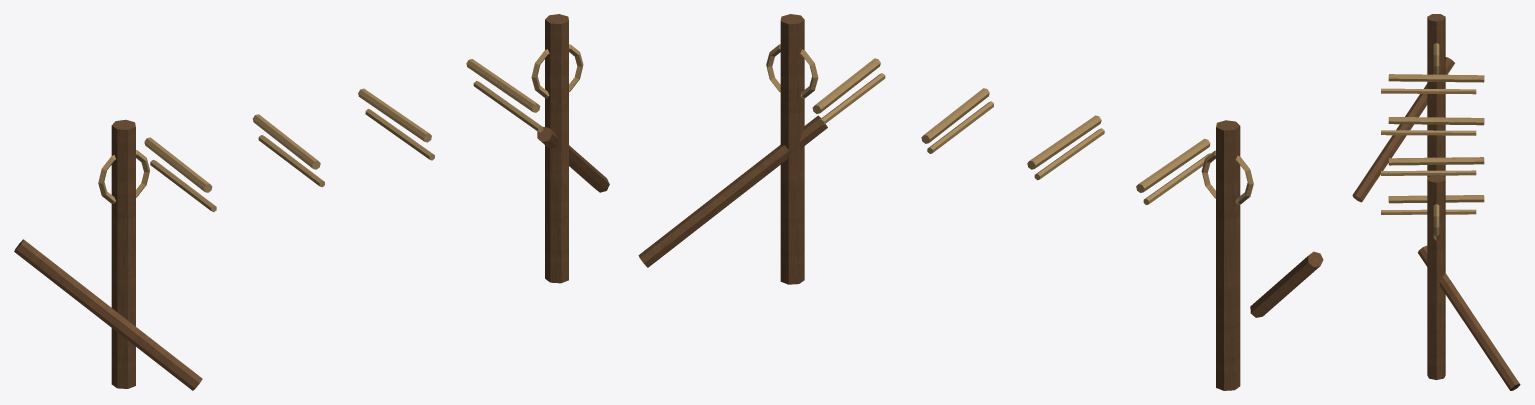
The model's file is en-024_camp_boundary_rope_set__taut.obj.
The picture shows the model from 3 angles, left to right: view 1: azimuth 30°, elevation 25°; view 2: azimuth 150°, elevation 25°; view 3: azimuth 270°, elevation 25°; orthographic projection. The views are drawn at different scales.
Visible parts, largest first — view 1: en-024_camp_boundary_rope_set__taut; view 2: en-024_camp_boundary_rope_set__taut; view 3: en-024_camp_boundary_rope_set__taut.
Boxes of the visible parts, x1,y1,x2,y2 form: en-024_camp_boundary_rope_set__taut: (14, 14, 609, 390); en-024_camp_boundary_rope_set__taut: (638, 14, 1323, 390); en-024_camp_boundary_rope_set__taut: (1352, 14, 1520, 390).
Size of the model in its own units: 2.06 by 0.8 by 0.6174.
2 materials, 2 textured.
